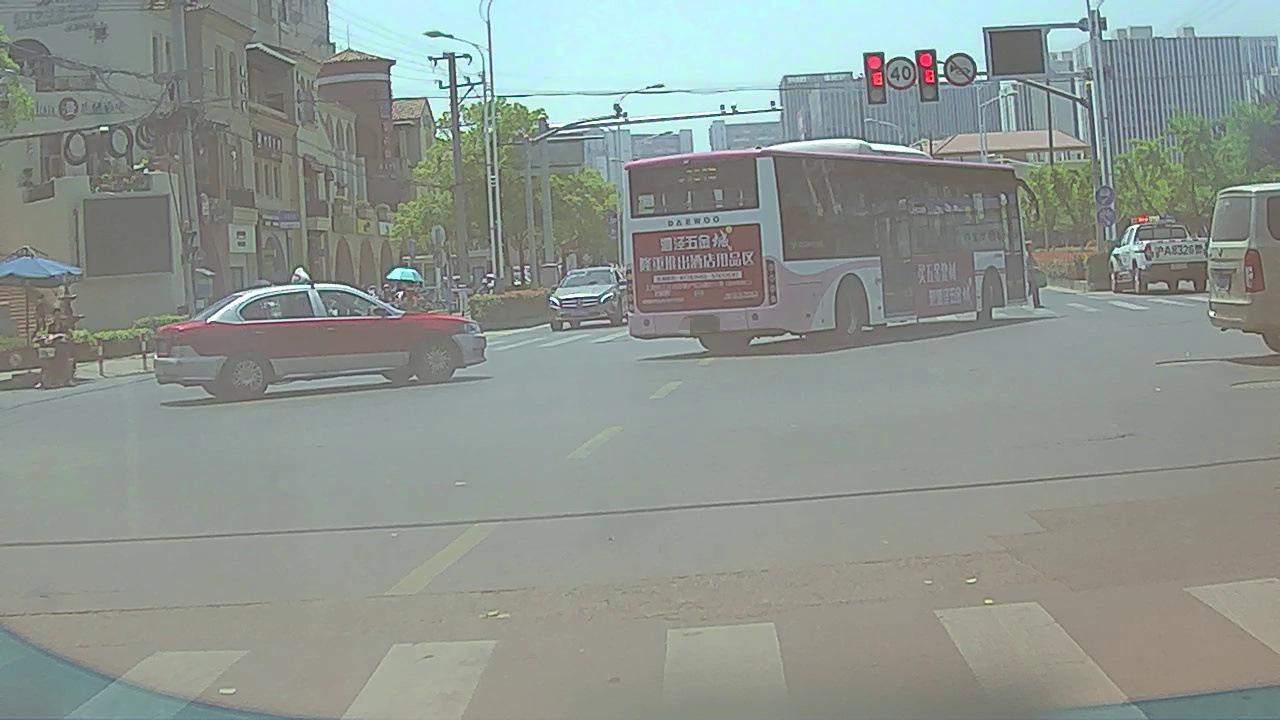traffic_light: (919, 50, 938, 100), (867, 53, 884, 103)
